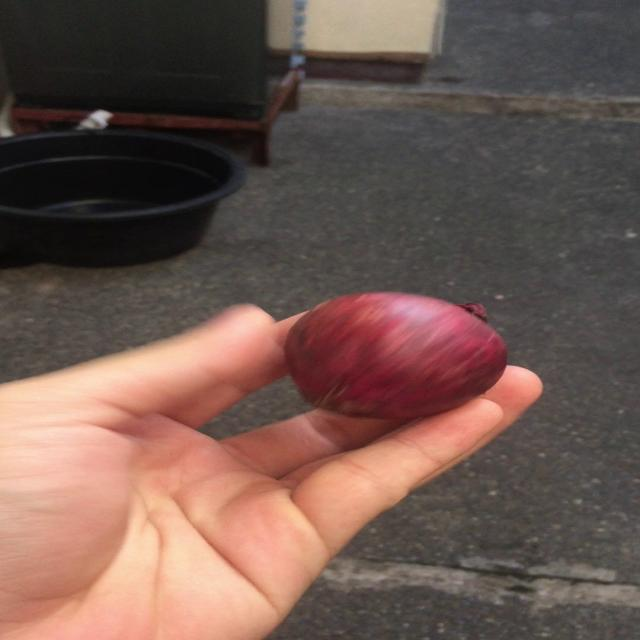Onion: (284, 293, 507, 420)
